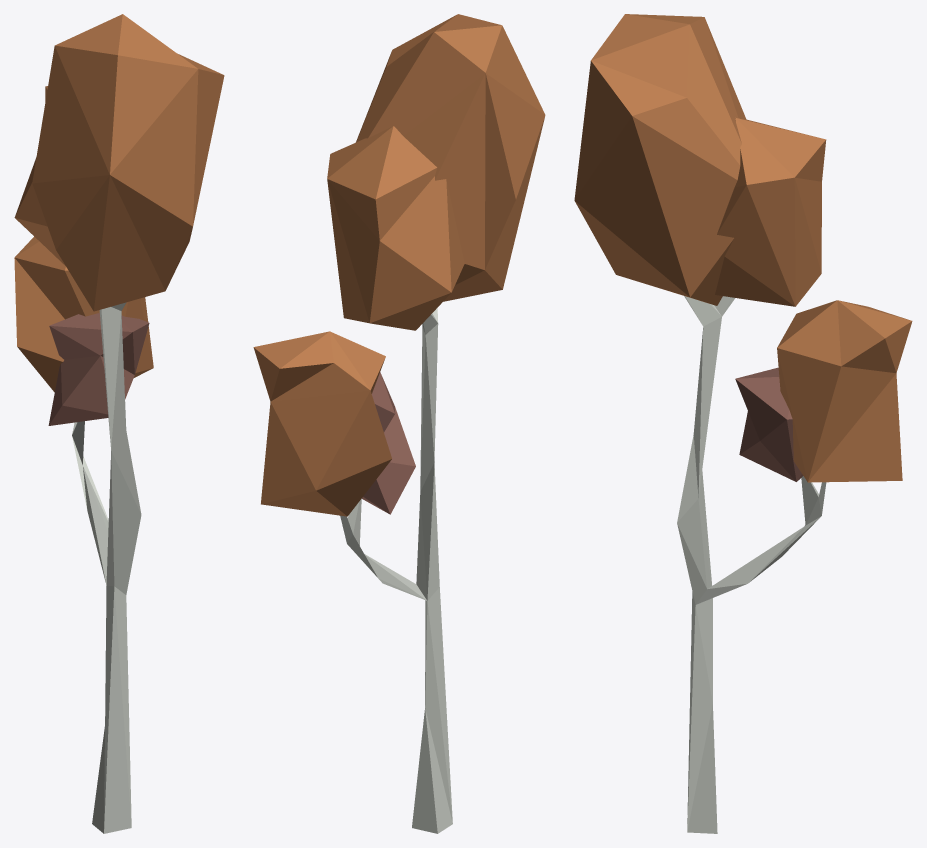
The model's file is BirchTree_Autumn_5.lod3.glb.
3 views of the same model, side by side, from view 1: azimuth 30°, elevation 25°; view 2: azimuth 150°, elevation 25°; view 3: azimuth 270°, elevation 25° (orthographic). The views are drawn at different scales.
Visible parts, largest first — view 1: BirchTree_Autumn_5; view 2: BirchTree_Autumn_5; view 3: BirchTree_Autumn_5.
Boxes of the visible parts, x1,y1,x2,y2 form: BirchTree_Autumn_5: [14, 14, 224, 833]; BirchTree_Autumn_5: [253, 14, 545, 833]; BirchTree_Autumn_5: [574, 14, 912, 833].
Bounding box in the file's own units: 1.15 × 4.99 × 1.9.
